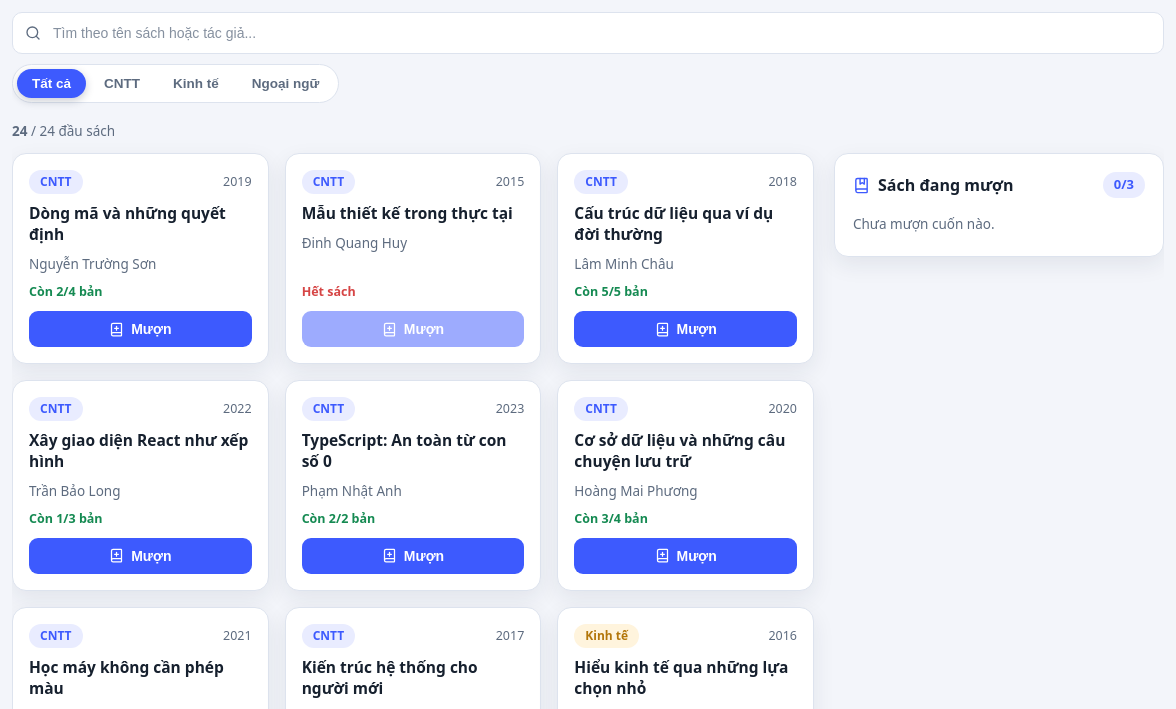
Test: BooksPage (tích hợp) › trả sách thì số bản còn lại tăng lên
This screenshot has width=1176, height=709.
Expected: the heading "Dòng mã và những quyết định" is shown, [29,203,252,245]
Click the button "Mượn" below "Còn 2/4 bản" at (140, 329), box [29,311,252,347]
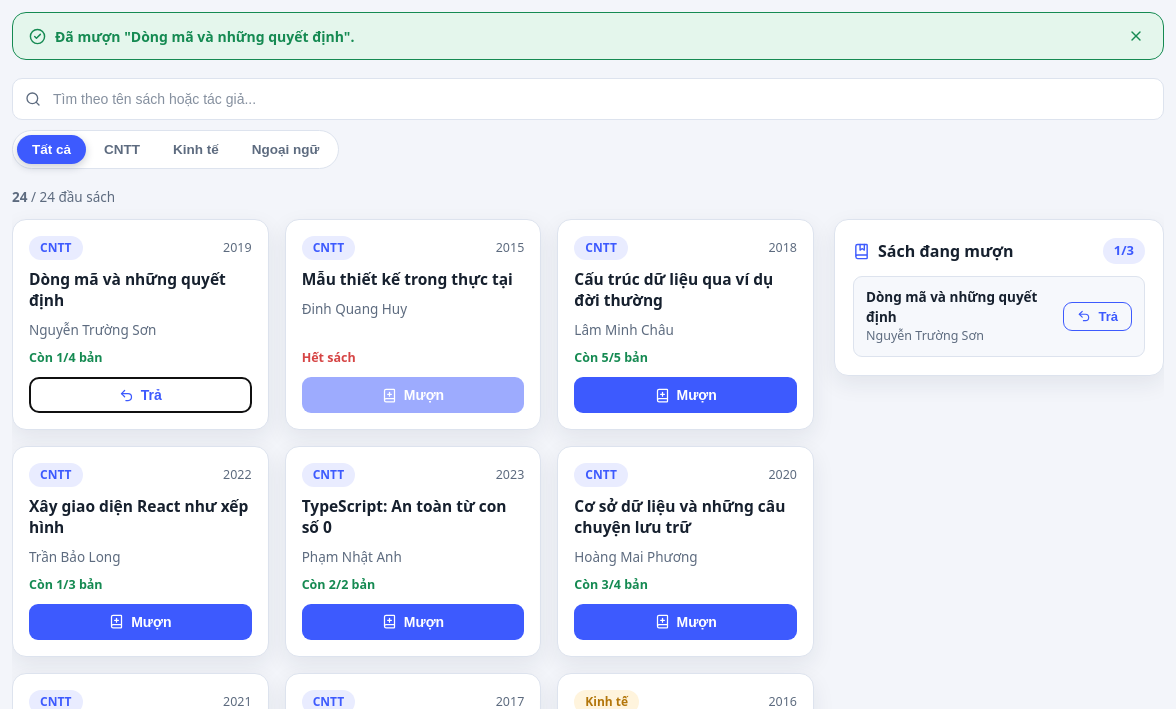
Expected: the text "Còn 1/4 bản" is shown, [29,349,103,366]
Expected: the text "1/3" is shown, [1103,238,1145,264]
Click the button "Trả" below "Còn 1/4 bản" at (140, 395), box [29,377,252,413]
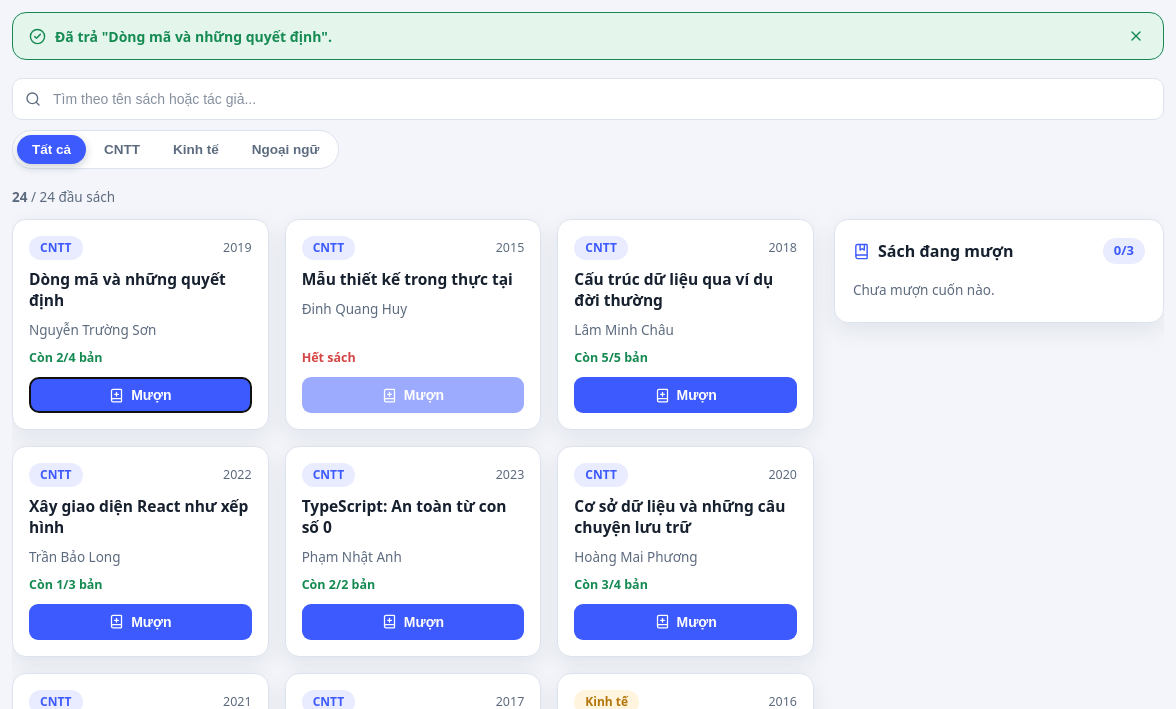
Expected: the text "Còn 2/4 bản" is shown, [29,349,103,366]
Expected: the text "0/3" is shown, [1103,238,1145,264]
